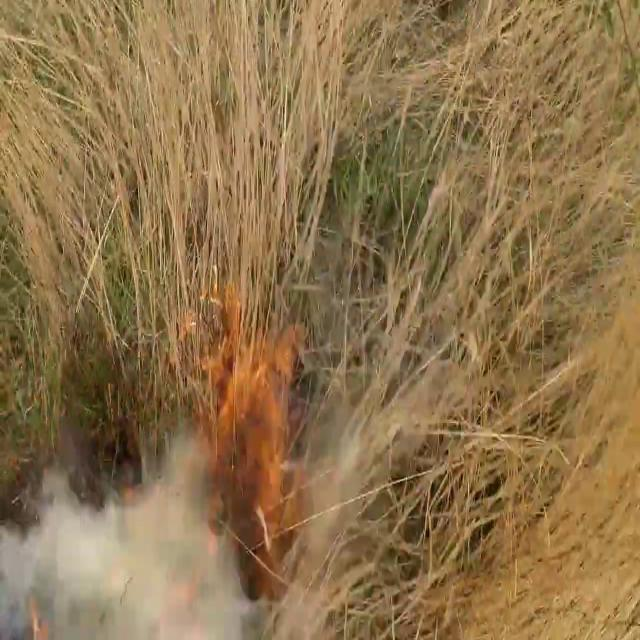Fire: (25, 592, 52, 640)
Smoke: (0, 425, 257, 639)
